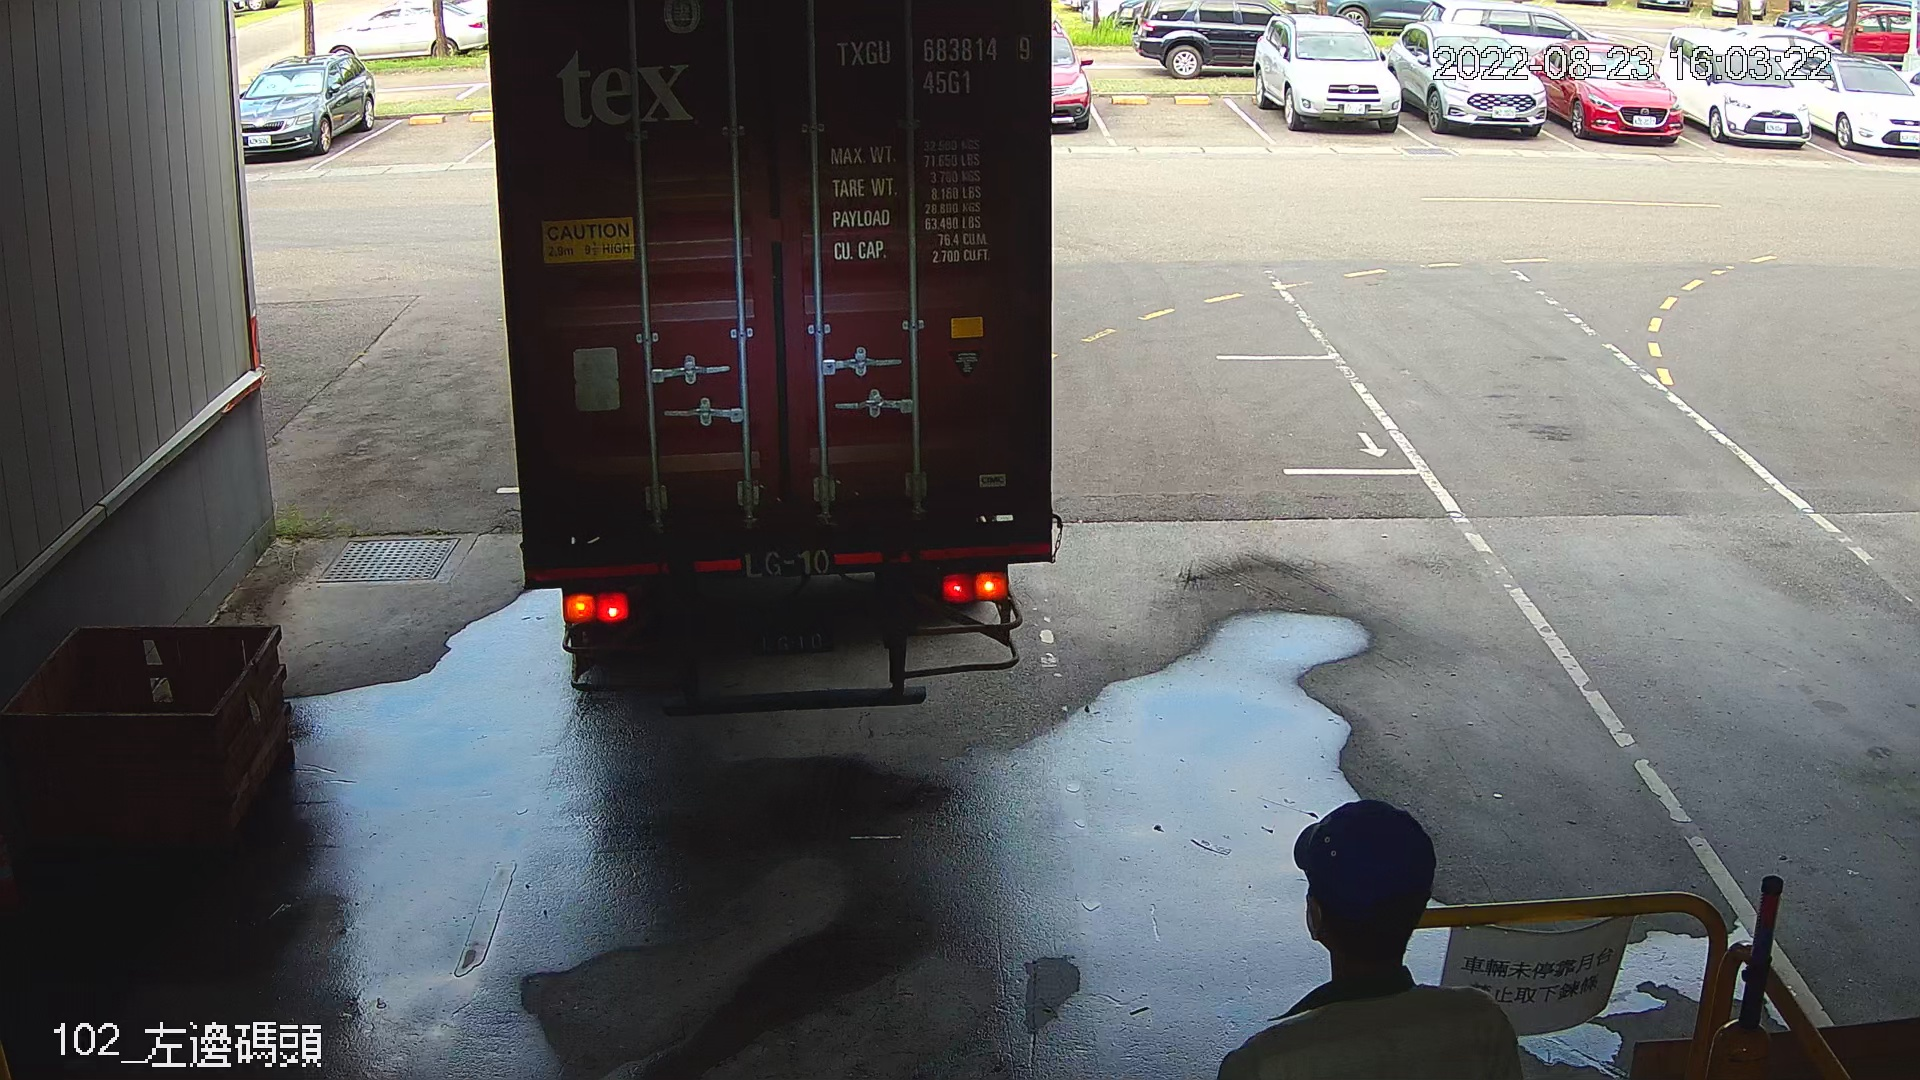container: (829, 24, 1036, 107)
